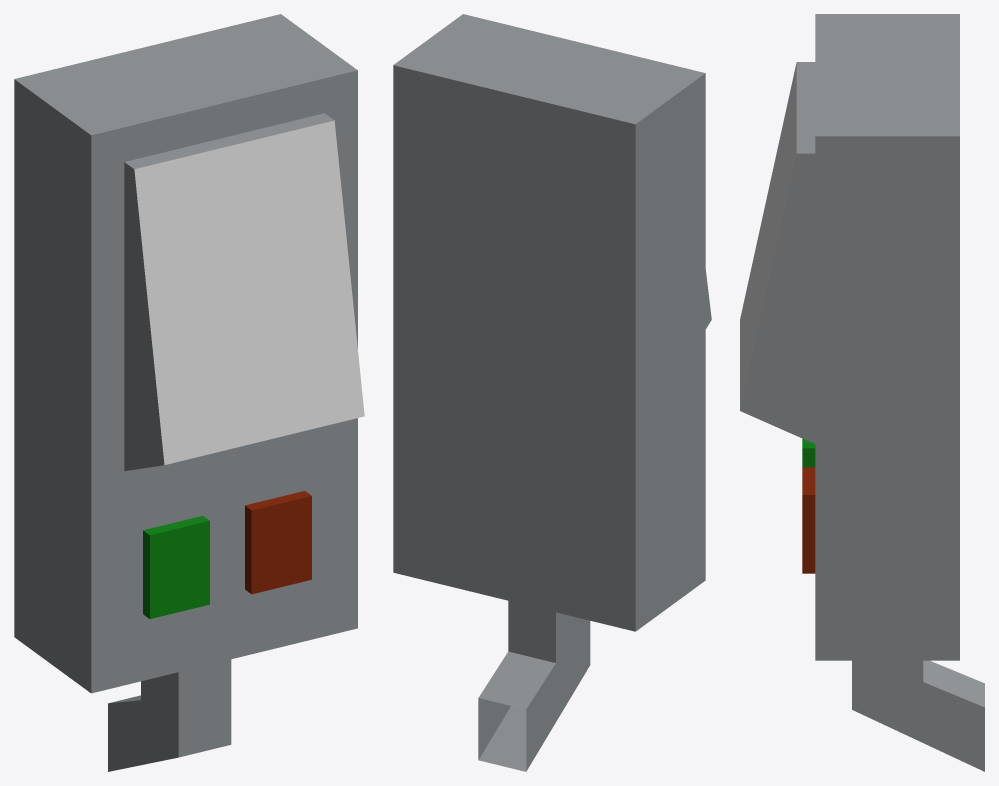
File: Hackable_module_A.fbx
3 renders of one model, left to right at view 1: azimuth 30°, elevation 25°; view 2: azimuth 150°, elevation 25°; view 3: azimuth 270°, elevation 25°, orthographic. The views are drawn at different scales.
Parts seen in each view (by area): view 1: Hackable_module_A, Hackable_module_A_Screen; view 2: Hackable_module_A; view 3: Hackable_module_A, Hackable_module_A_Screen.
Part boxes in pixels (x1,y1,x2,y2): Hackable_module_A: (14, 14, 357, 771); Hackable_module_A_Screen: (134, 120, 364, 464); Hackable_module_A: (393, 14, 711, 771); Hackable_module_A: (740, 14, 984, 771); Hackable_module_A_Screen: (740, 63, 796, 410).
Bounding box in the file's own units: 0.2 × 0.5223 × 0.1692.
